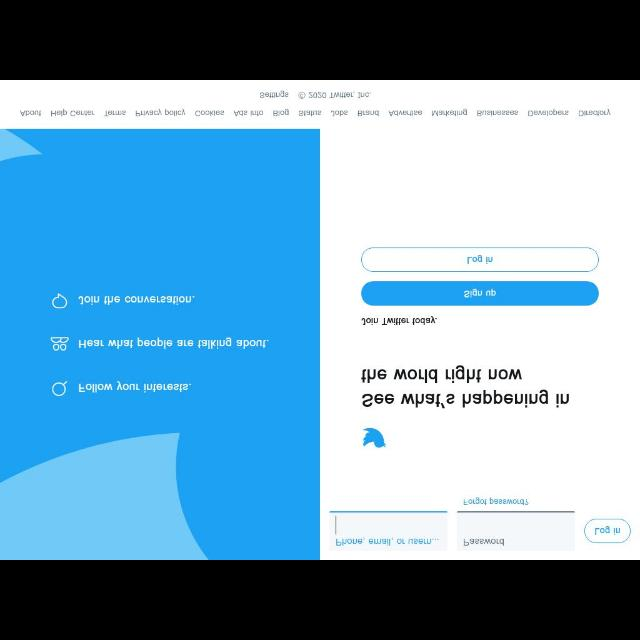backgroundimage: (1, 129, 320, 559)
icon: (51, 379, 69, 397), (50, 336, 70, 352), (52, 294, 68, 308), (298, 90, 306, 100)
image: (361, 427, 387, 449)
input: (330, 512, 448, 550), (458, 512, 574, 550)
multitab: (19, 107, 611, 117)
text: (362, 366, 570, 408), (78, 338, 270, 350), (78, 294, 196, 306), (78, 382, 192, 393), (336, 537, 440, 547), (360, 316, 438, 326), (462, 498, 528, 507), (135, 108, 187, 119), (308, 91, 372, 99), (50, 109, 96, 119), (463, 536, 505, 546), (528, 108, 570, 118), (430, 107, 470, 117), (477, 109, 519, 118), (388, 107, 424, 117), (578, 108, 612, 118), (464, 288, 496, 298), (232, 108, 264, 118), (194, 108, 224, 118), (259, 89, 289, 99), (594, 526, 622, 536), (466, 255, 494, 265), (19, 109, 43, 119), (103, 108, 127, 118), (297, 109, 321, 118), (356, 109, 380, 118), (272, 108, 290, 118), (329, 109, 348, 118)
textbutton: (362, 246, 600, 272), (362, 280, 598, 306), (585, 518, 631, 542)
